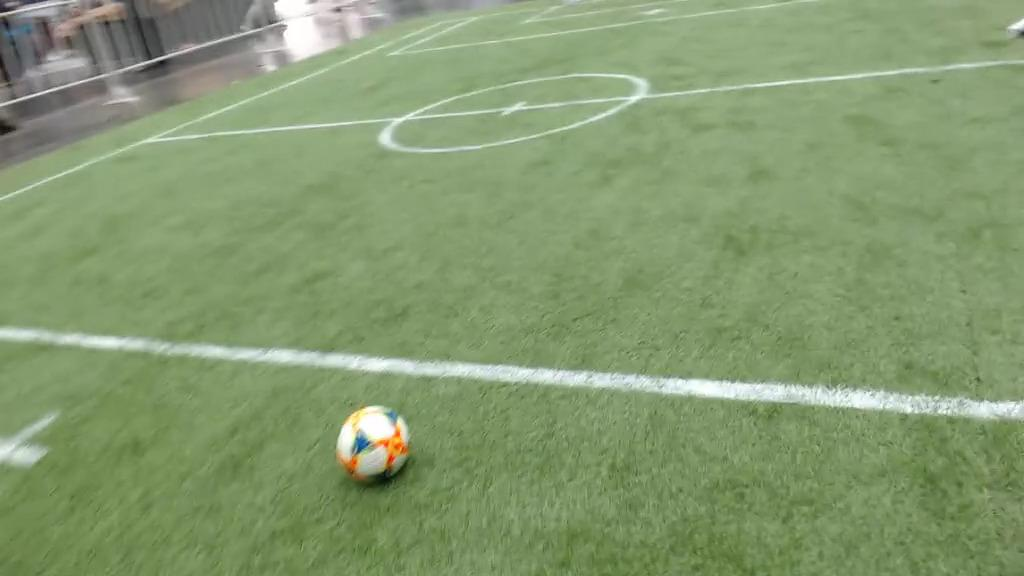ball: (336, 406, 410, 481)
